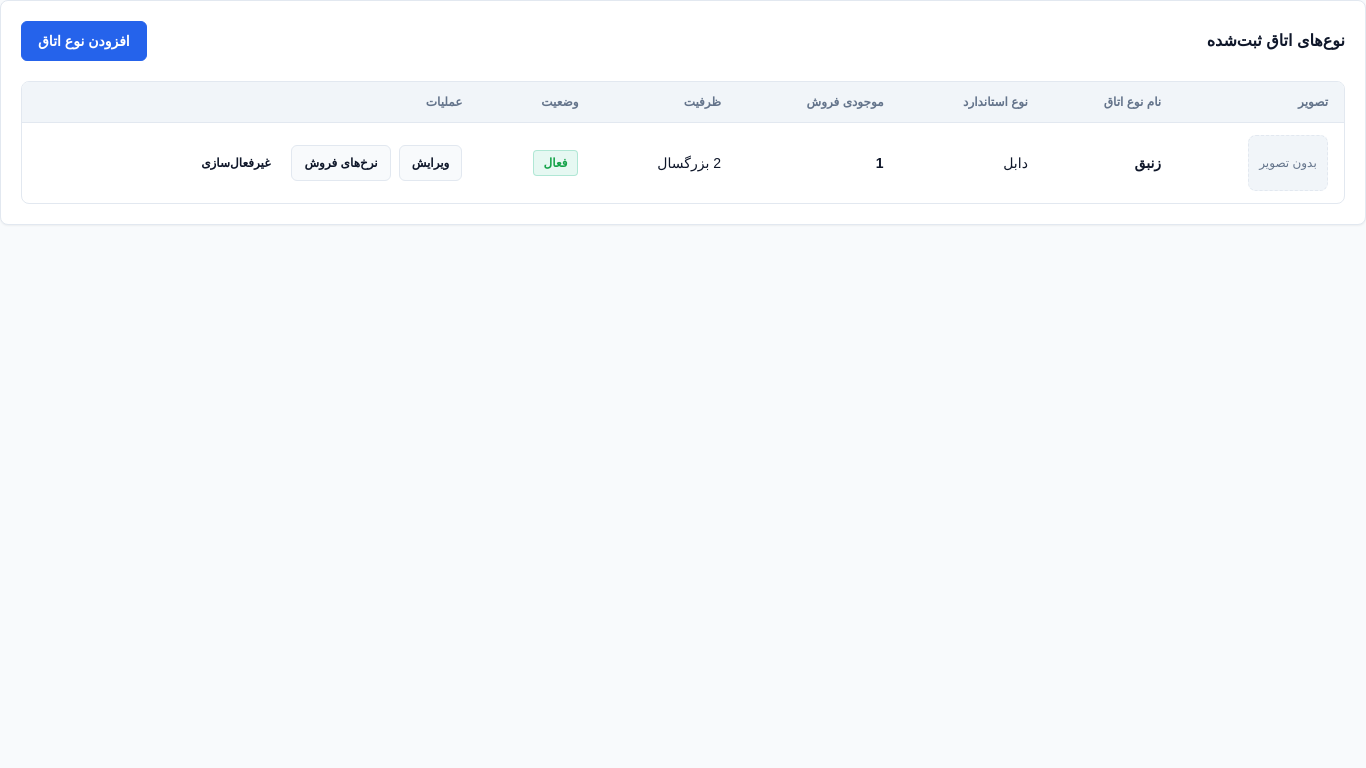
Scenario: RoomType RatePlan management › opens from the shared Admin/Owner RoomType surface and shows the base plus empty state
The image size is (1366, 768).
Click the button "نرخ‌های فروش" at (341,163), box [292, 145, 391, 181]
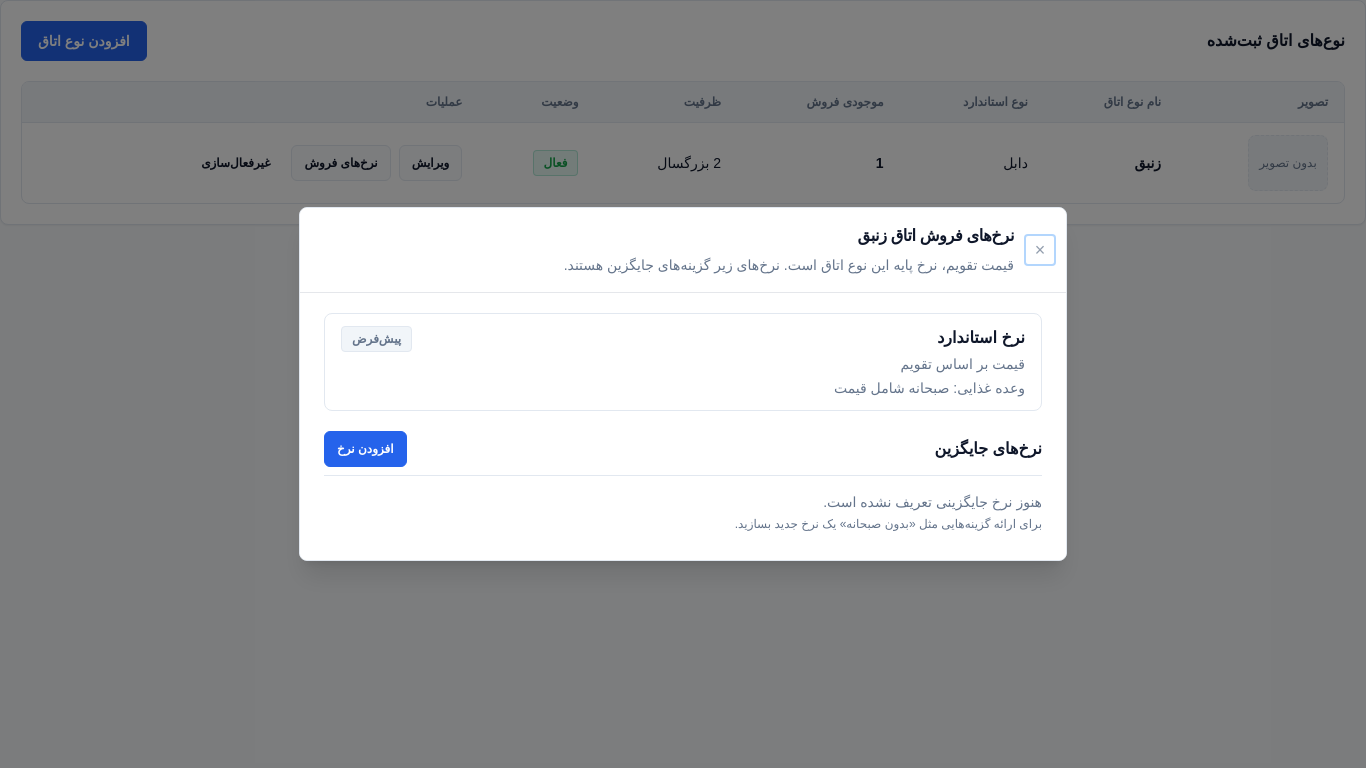
Expected: the heading "نرخ استاندارد" is shown, [937, 329, 1025, 346]
Expected: the text "پیش‌فرض" is shown, [341, 326, 412, 352]
Expected: the text "قیمت بر اساس تقویم" is shown, [900, 356, 1025, 372]
